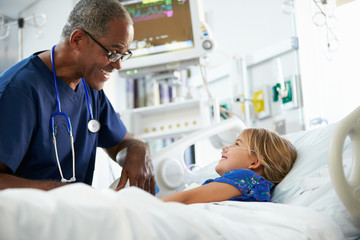Doctor: (48, 1, 137, 141)
patient: (210, 128, 295, 202)
